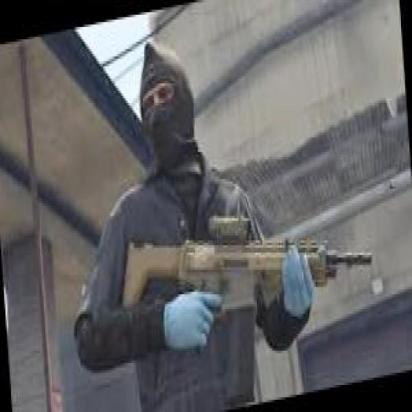Gun: (118, 179, 380, 351)
